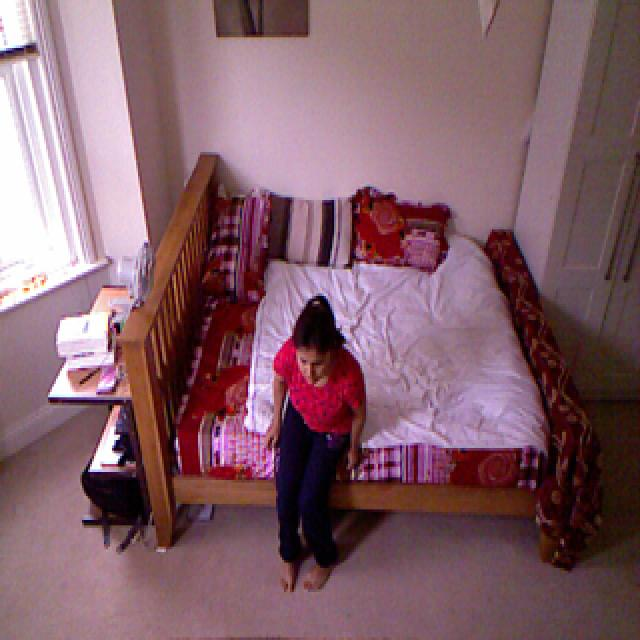sit: (259, 292, 367, 599)
